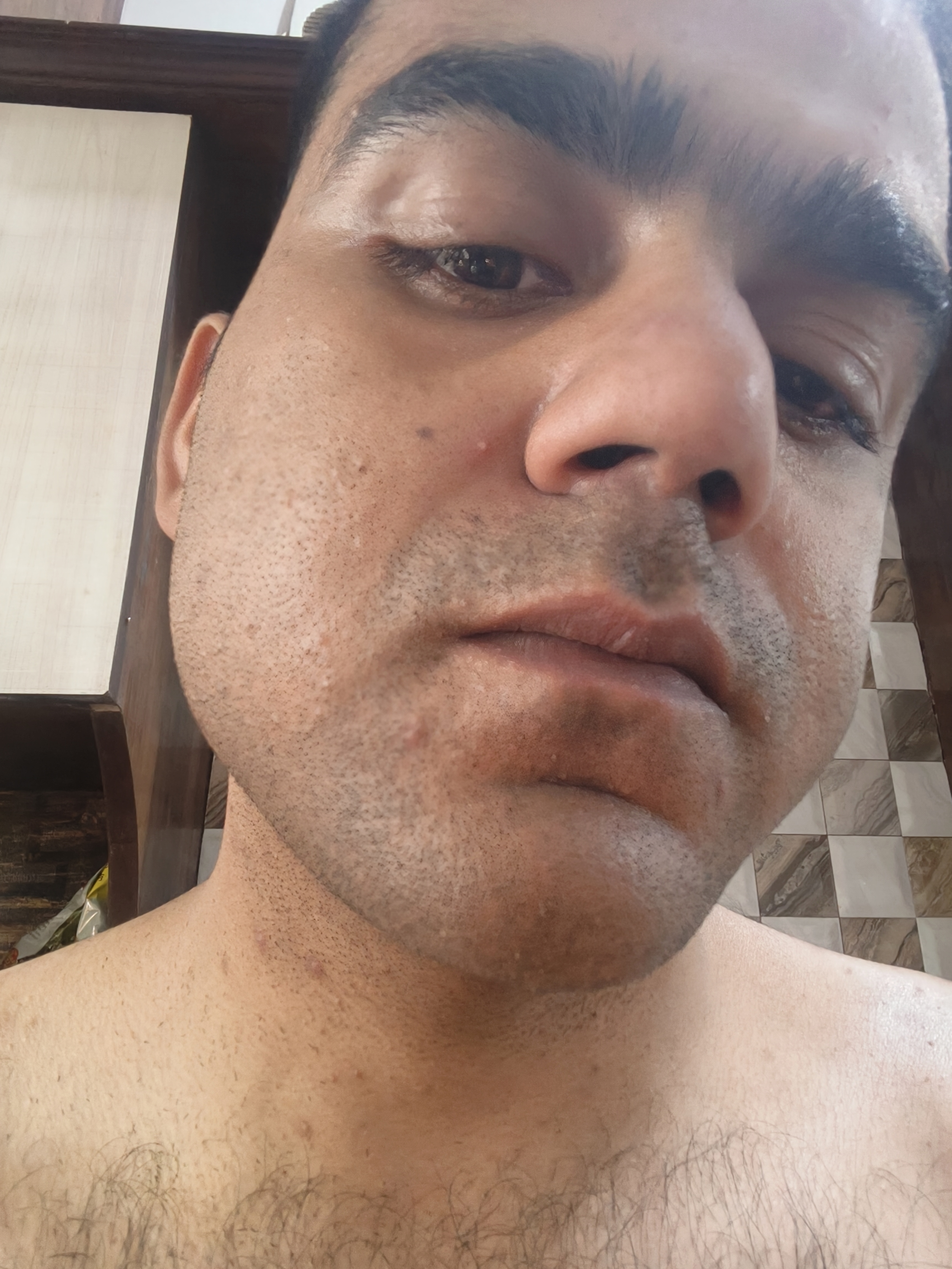cyst: (476, 440, 491, 452)
papule: (402, 720, 426, 748)
pustule: (761, 714, 773, 725)
